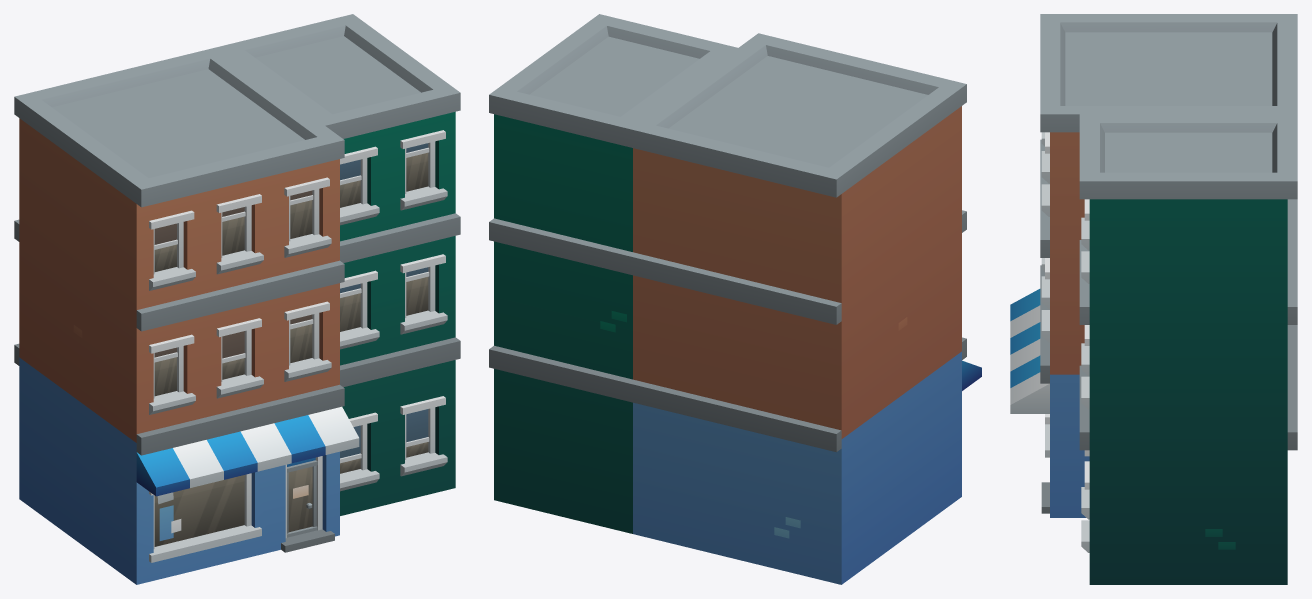
File: building_G_withoutBase-processed.glb
3 renders of one model, left to right at view 1: azimuth 30°, elevation 25°; view 2: azimuth 150°, elevation 25°; view 3: azimuth 270°, elevation 25°, orthographic. The views are drawn at different scales.
Parts seen in each view (by area): view 1: building_G_withoutBase; view 2: building_G_withoutBase; view 3: building_G_withoutBase.
Part boxes in pixels (x1=…): building_G_withoutBase: x1=14, y1=14, x2=460, y2=584; building_G_withoutBase: x1=489, y1=14, x2=981, y2=584; building_G_withoutBase: x1=1010, y1=14, x2=1297, y2=584.
Bounding box in the file's own units: 2.01 × 2.25 × 1.45.
1 material, 1 textured.
